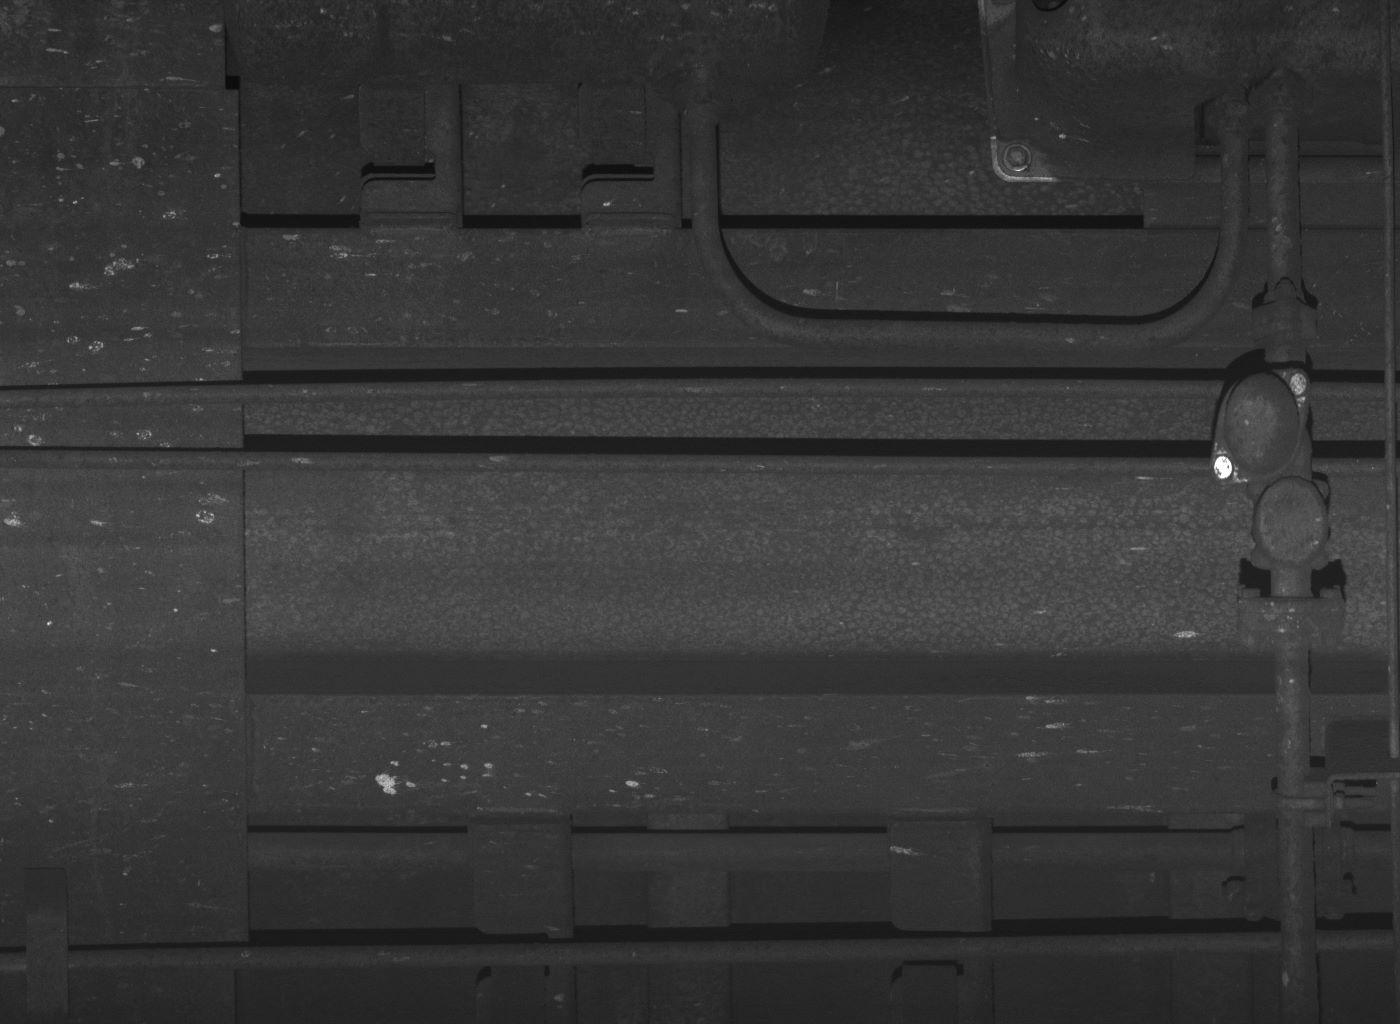normal: (1250, 475, 1329, 574)
